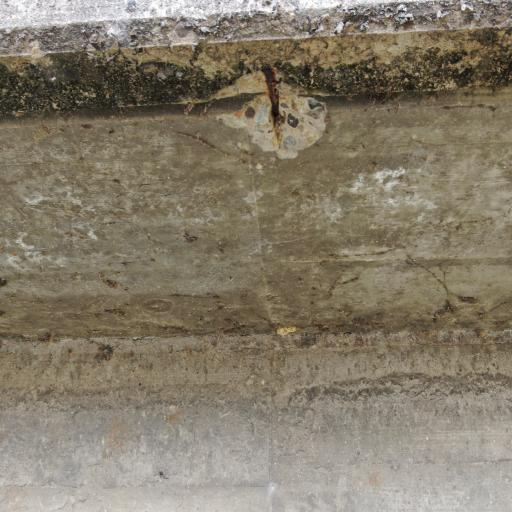exposed_rebar: (261, 66, 279, 121)
